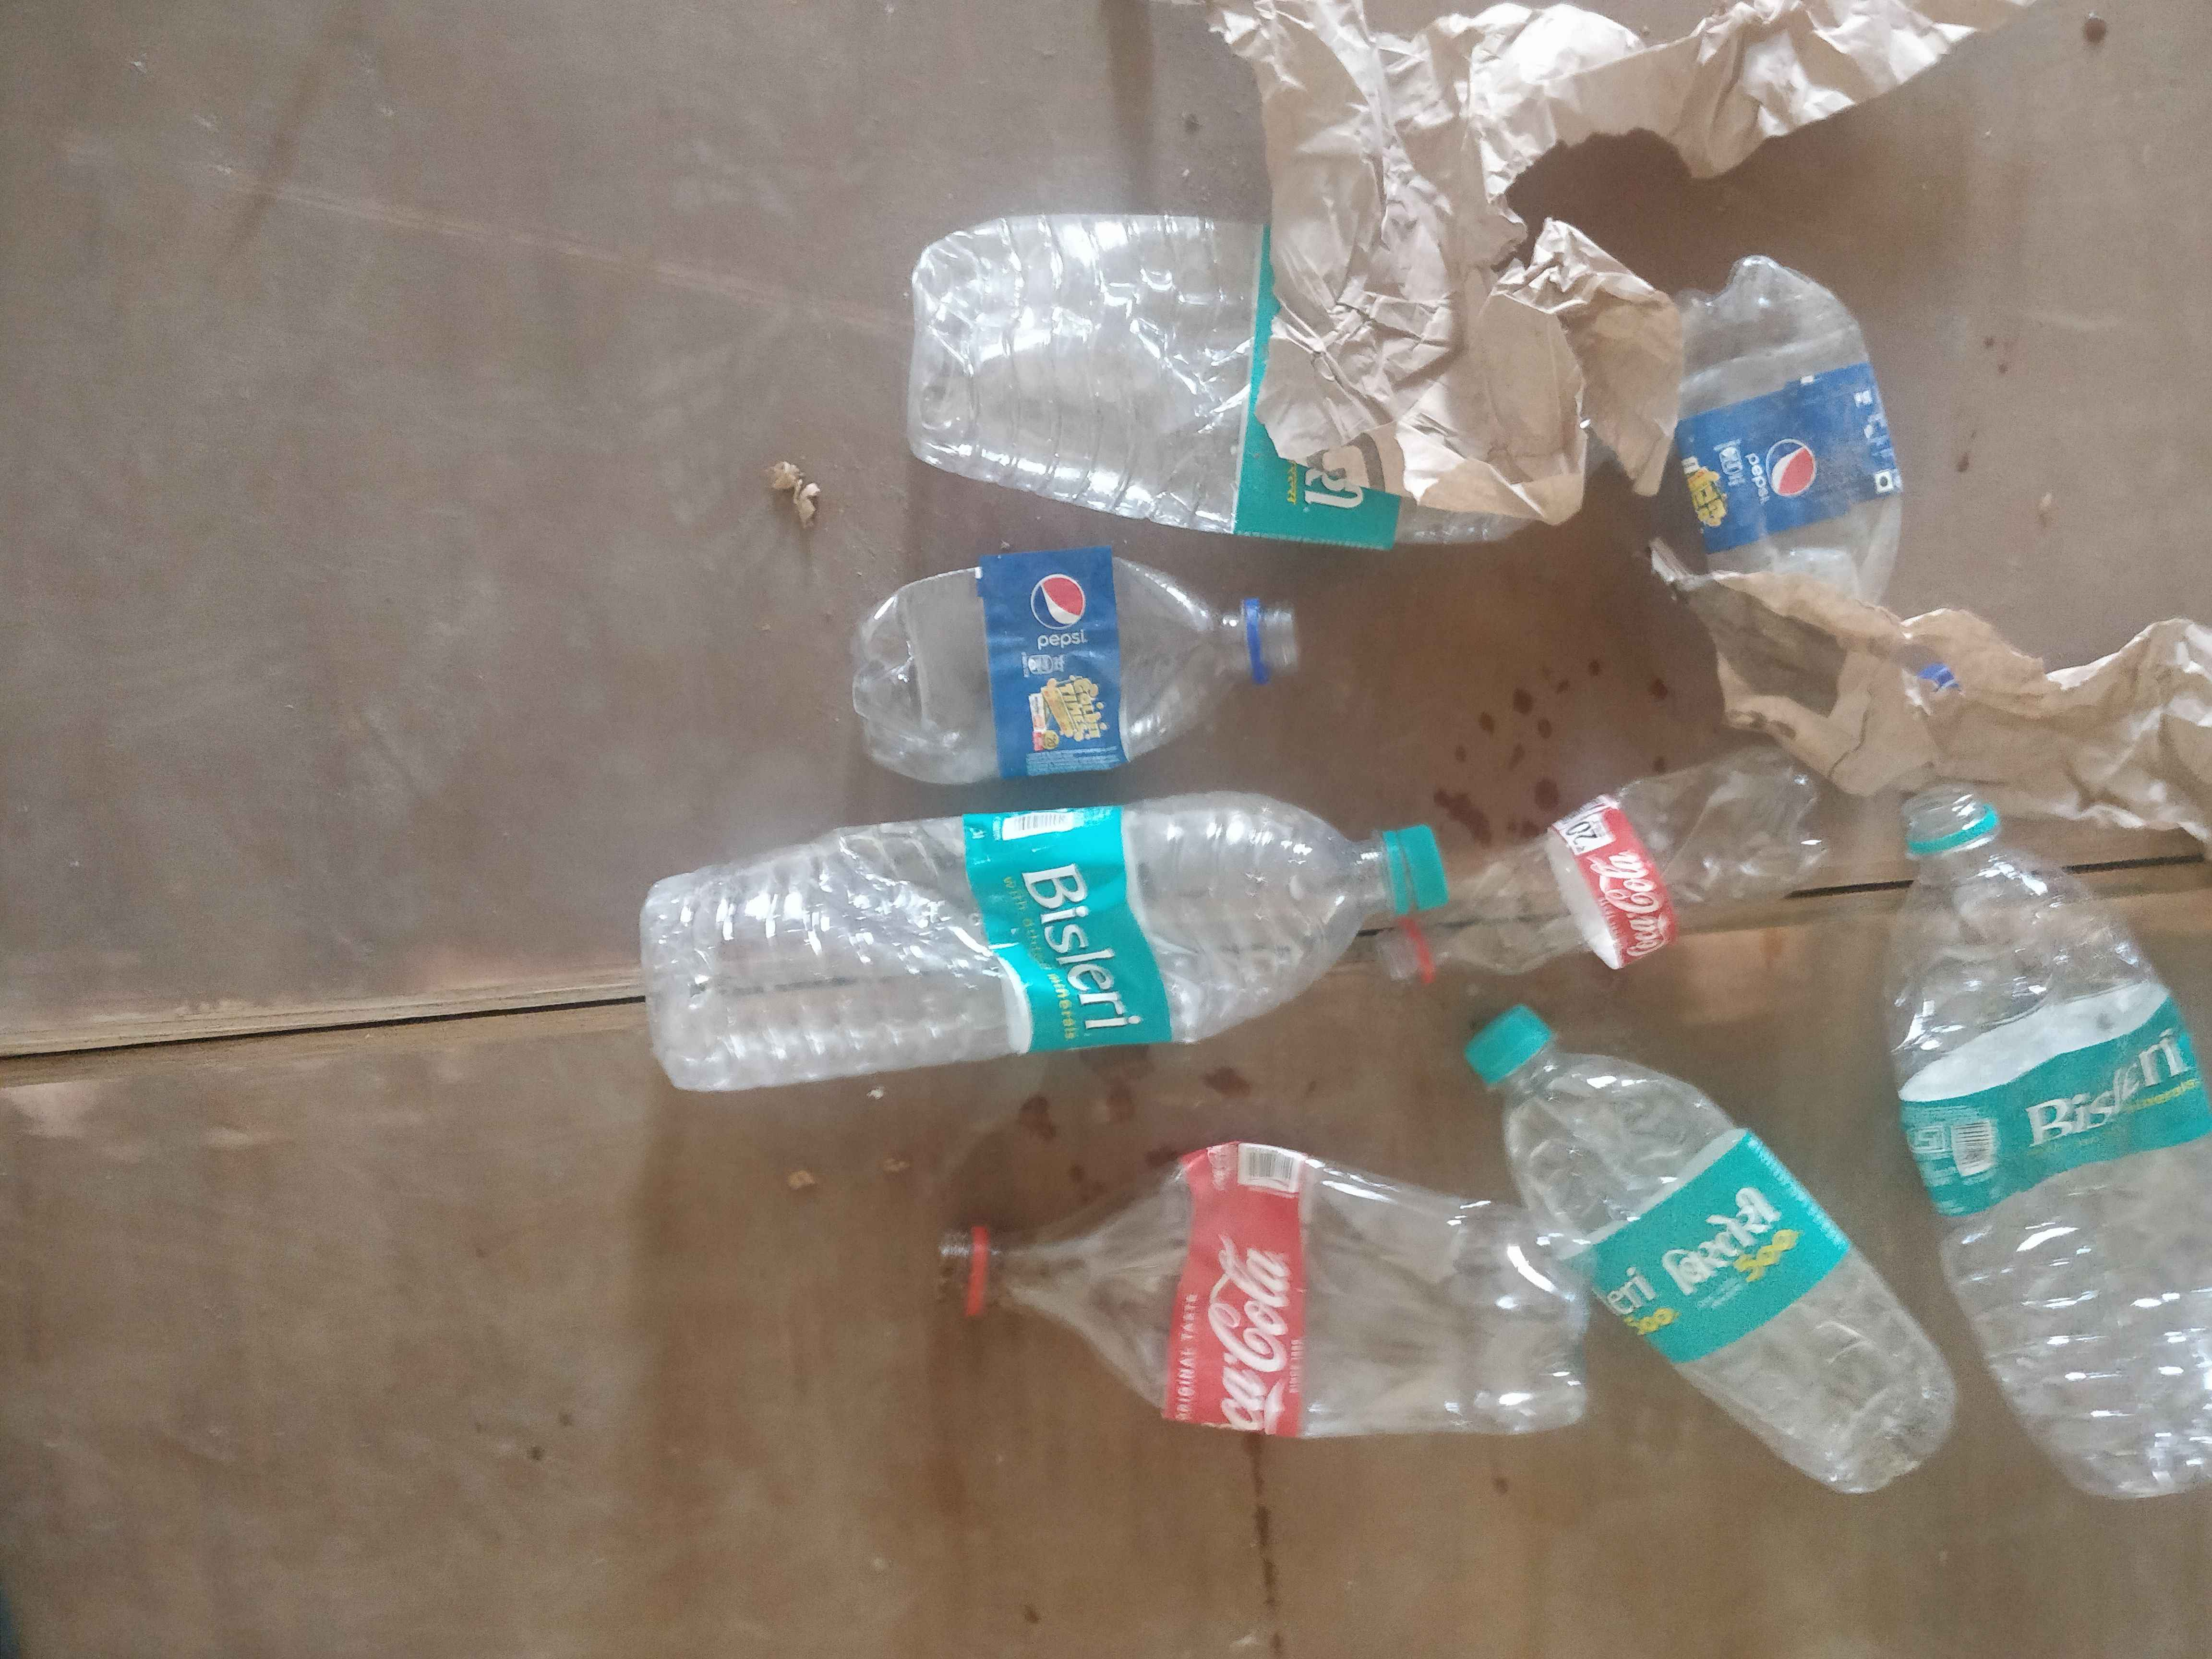Bisleri: (1001, 831, 1179, 1053), (1954, 1053, 2188, 1199), (1581, 1185, 1813, 1300), (1245, 427, 1393, 552)
Coca-Cola: (1184, 1199, 1318, 1441), (1588, 831, 1674, 969)
pepsi: (1691, 390, 1879, 547), (1012, 559, 1130, 758)
